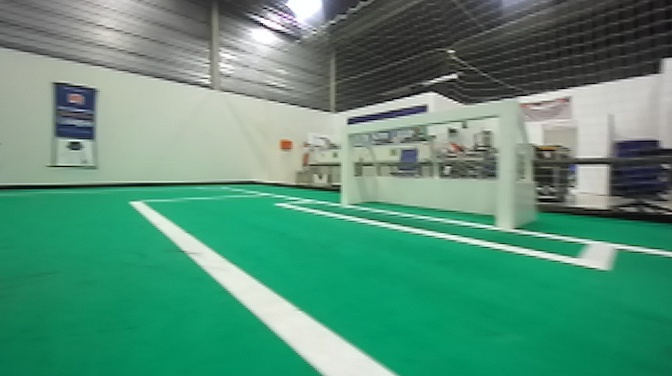goalpost: (488, 87, 522, 244), (335, 111, 359, 212)
